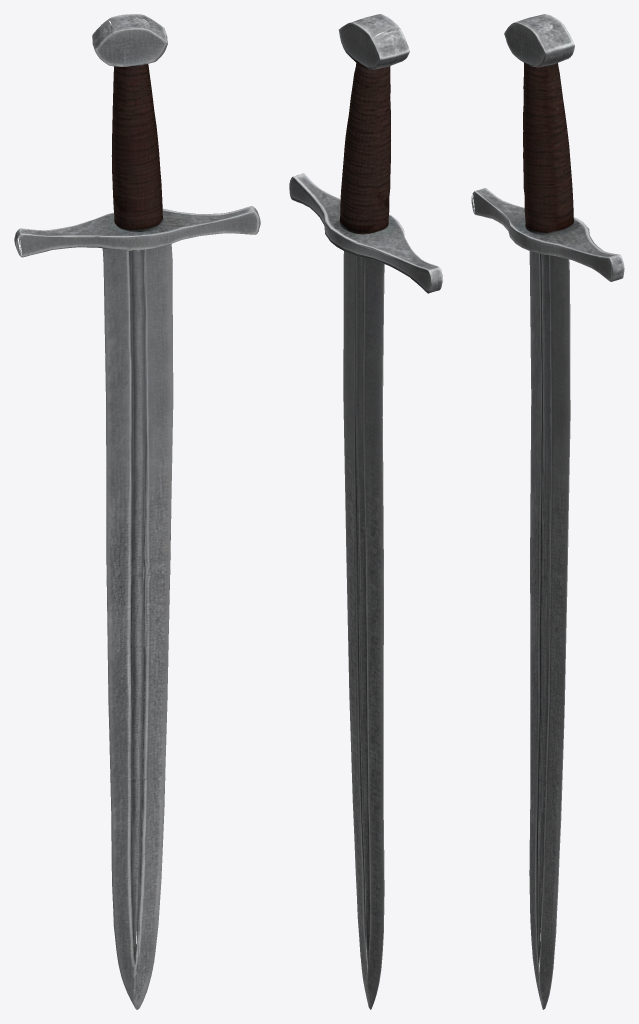
Rendered from sword.glb.
3 renders of one model, left to right at view 1: azimuth 30°, elevation 25°; view 2: azimuth 150°, elevation 25°; view 3: azimuth 330°, elevation 25°, orthographic.
Visible parts, largest first — view 1: a46f8376_2469_4719_be69_20ceafe9d44e; view 2: a46f8376_2469_4719_be69_20ceafe9d44e; view 3: a46f8376_2469_4719_be69_20ceafe9d44e.
Part boxes in pixels (box(x1,y1,x2,y2)): a46f8376_2469_4719_be69_20ceafe9d44e: box(14, 14, 260, 1009); a46f8376_2469_4719_be69_20ceafe9d44e: box(289, 14, 442, 1009); a46f8376_2469_4719_be69_20ceafe9d44e: box(471, 14, 624, 1009).
Bounding box in the file's own units: 0.1891 × 0.9001 × 0.0946.
1 material, 1 textured.
